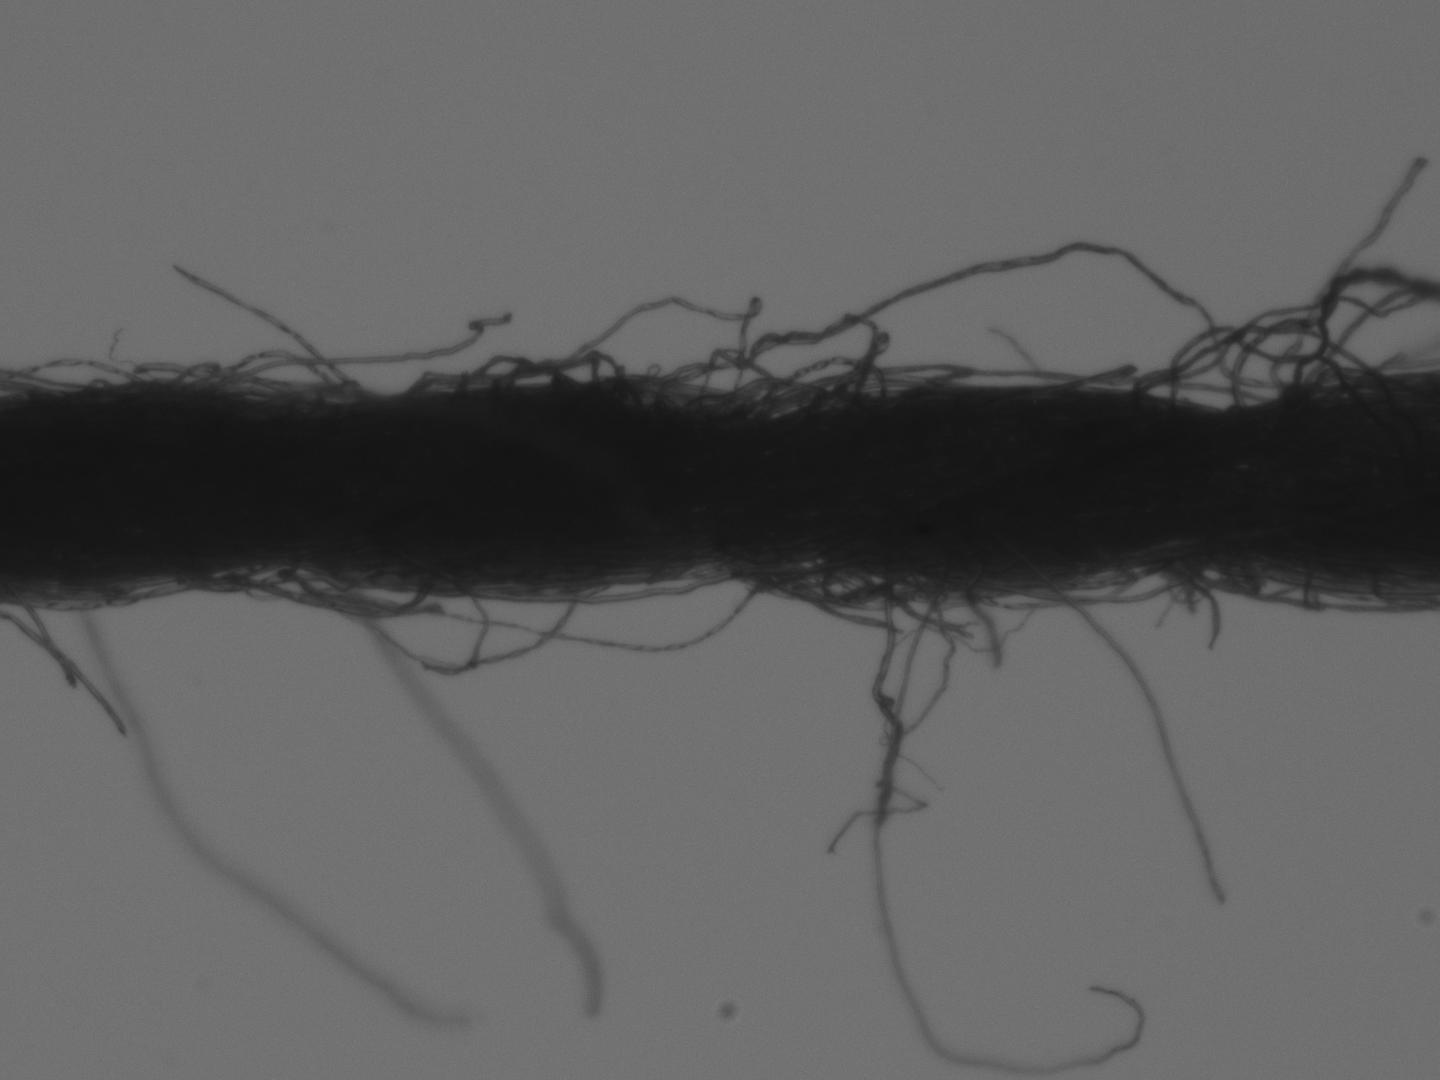loop_fiber: (687, 301, 890, 419), (448, 343, 644, 416), (451, 559, 755, 606), (264, 549, 432, 622), (193, 345, 349, 419), (1175, 557, 1289, 599), (727, 374, 830, 414), (821, 560, 907, 604), (1293, 352, 1365, 402), (79, 374, 115, 391)
protruding_fiber: (1020, 563, 1231, 910), (169, 260, 372, 399)
